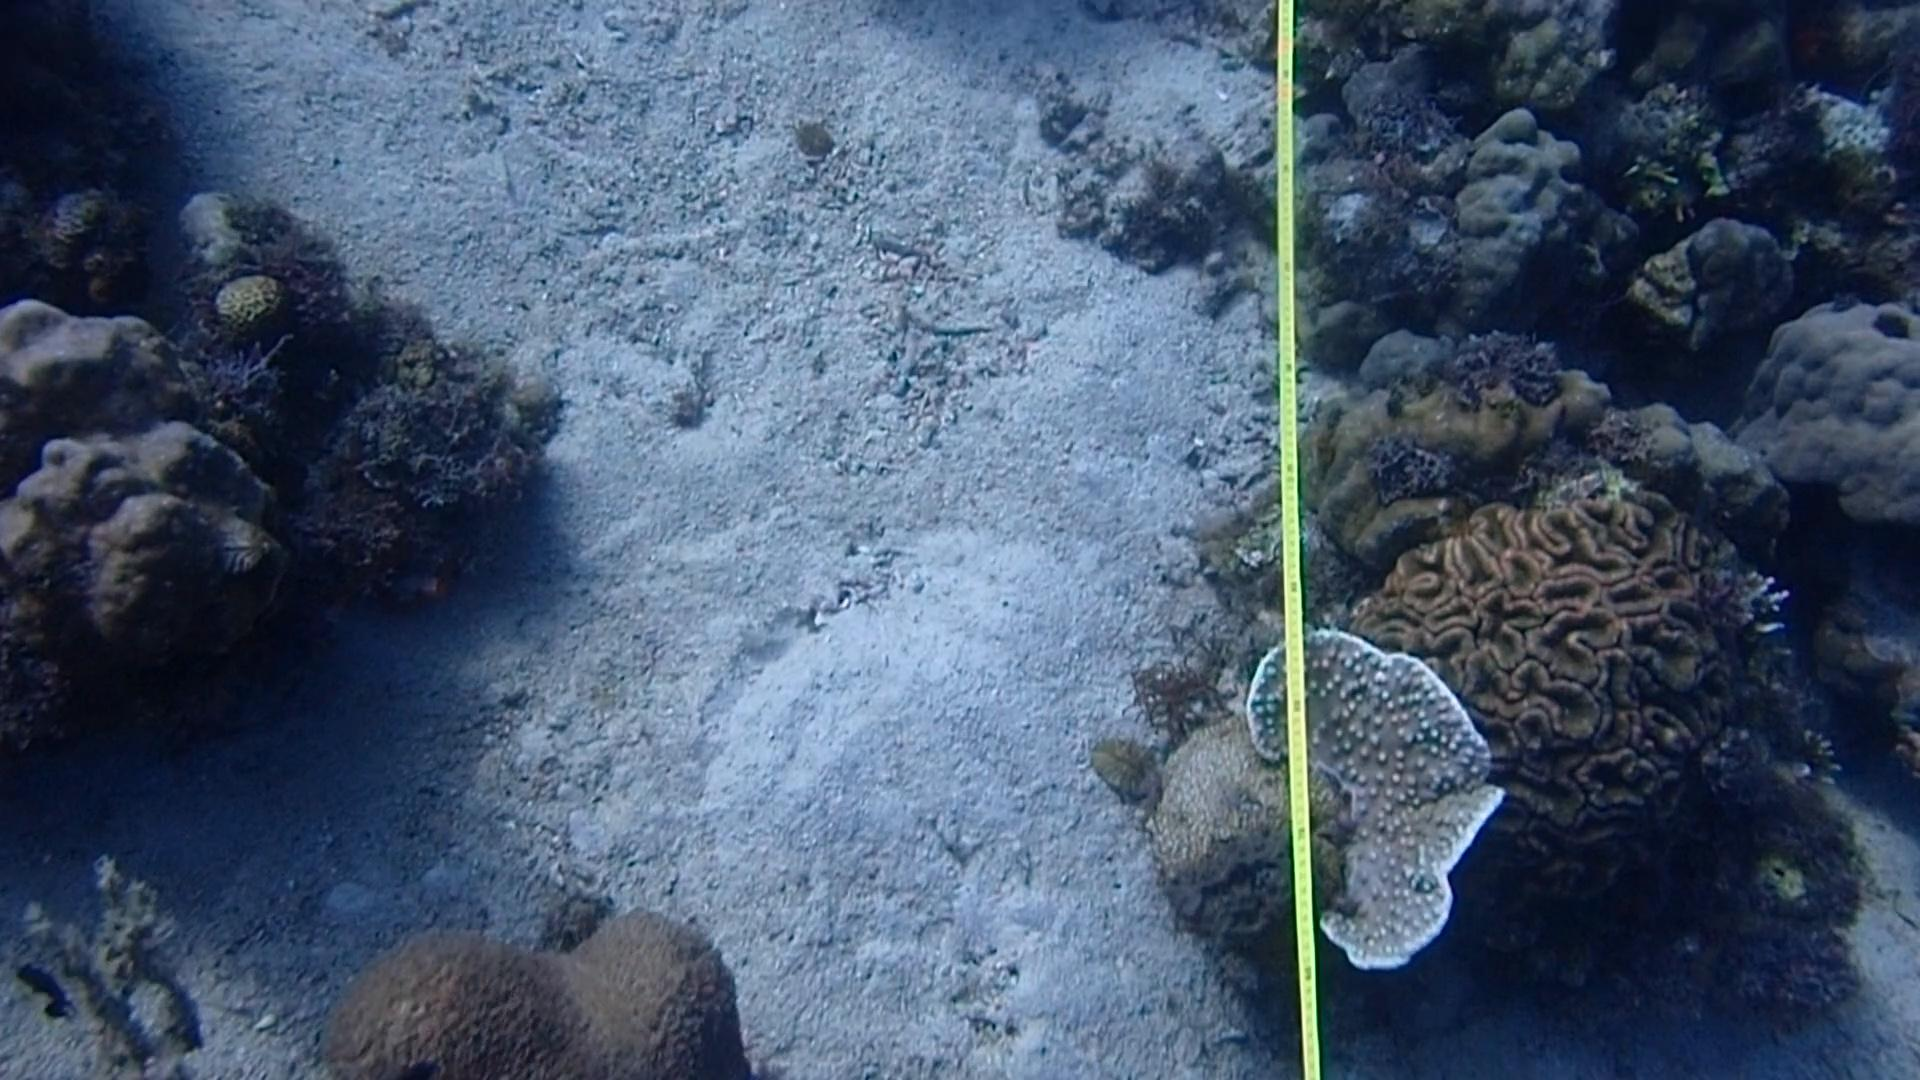Dark Fish: (15, 956, 76, 1030)
